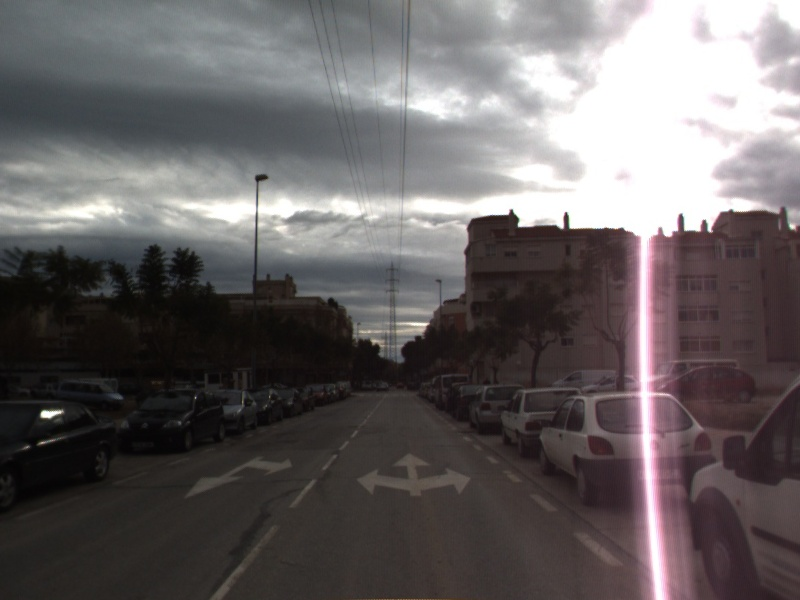STRAIGHT_LEFT_RIGHT: (354, 451, 473, 498)
